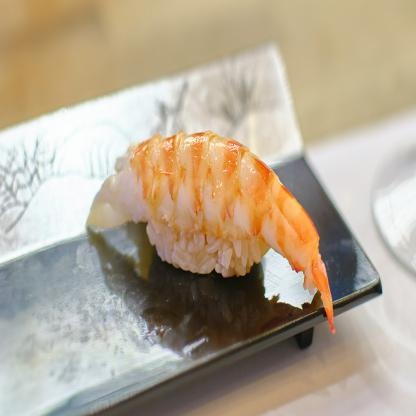ebi: (77, 127, 350, 335)
